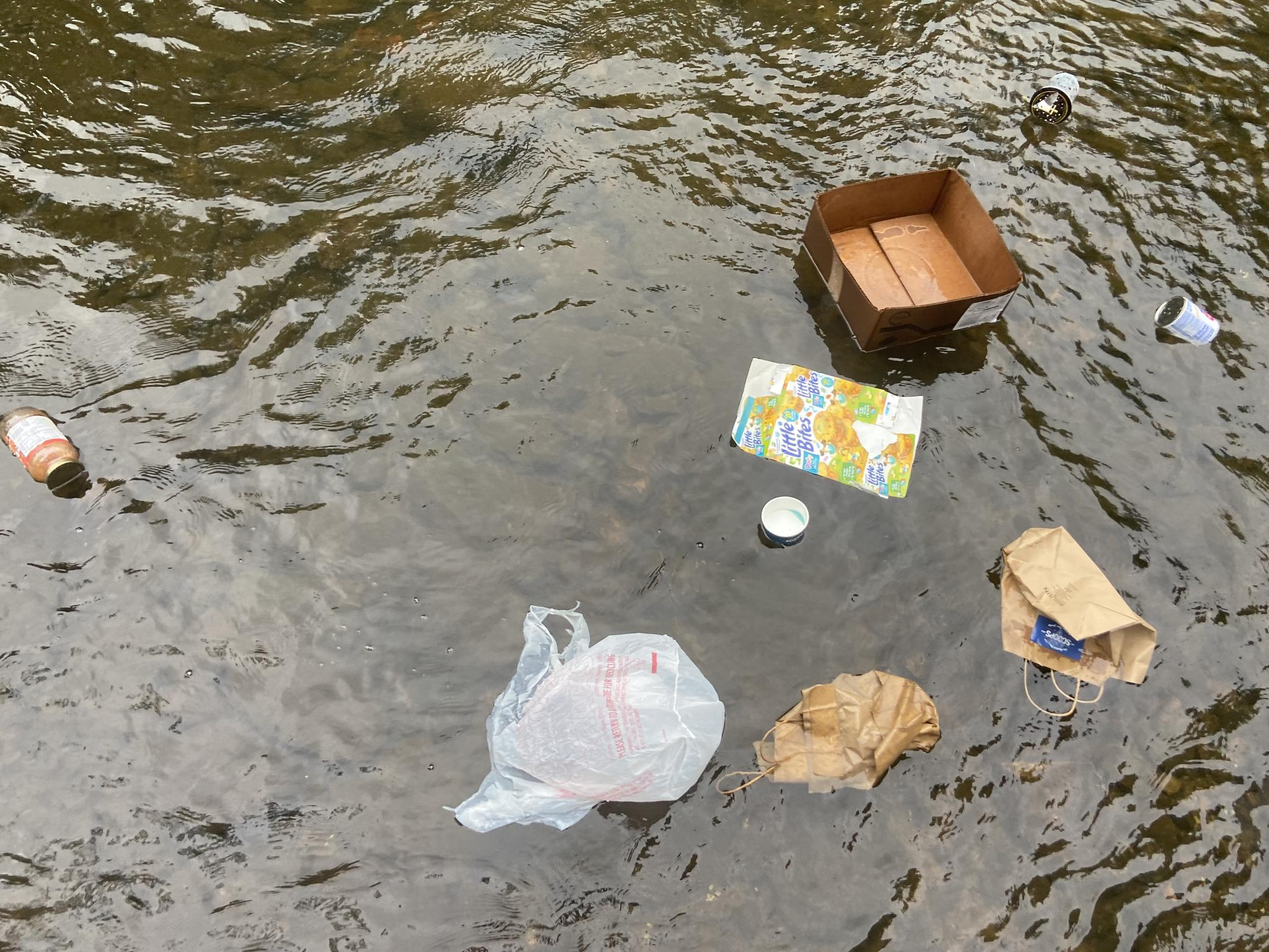cardboard: (240, 590, 494, 798), (329, 444, 550, 601)
glass: (1169, 445, 1269, 560)
metal: (40, 598, 119, 666)
paper: (101, 228, 290, 433), (317, 135, 562, 291), (446, 406, 513, 469)
plastic: (535, 104, 842, 360)
